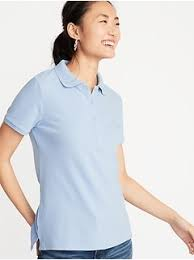S_polo shirt: (1, 63, 143, 251)
